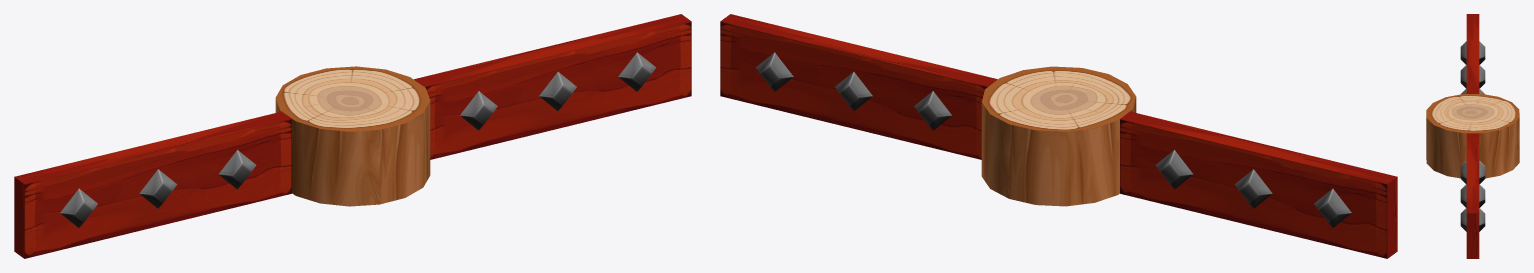
File: two_blade_red_02.fbx
The picture shows the model from 3 angles, left to right: view 1: azimuth 30°, elevation 25°; view 2: azimuth 150°, elevation 25°; view 3: azimuth 270°, elevation 25°; orthographic projection. The views are drawn at different scales.
Parts seen in each view (by area): view 1: two_blade_red_02; view 2: two_blade_red_02; view 3: two_blade_red_02.
Boxes of the visible parts, <box> form: two_blade_red_02: <box>14,14,691,258</box>; two_blade_red_02: <box>720,14,1397,258</box>; two_blade_red_02: <box>1426,14,1519,258</box>.
Bounding box in the file's own units: 374 × 40 × 74.15.
